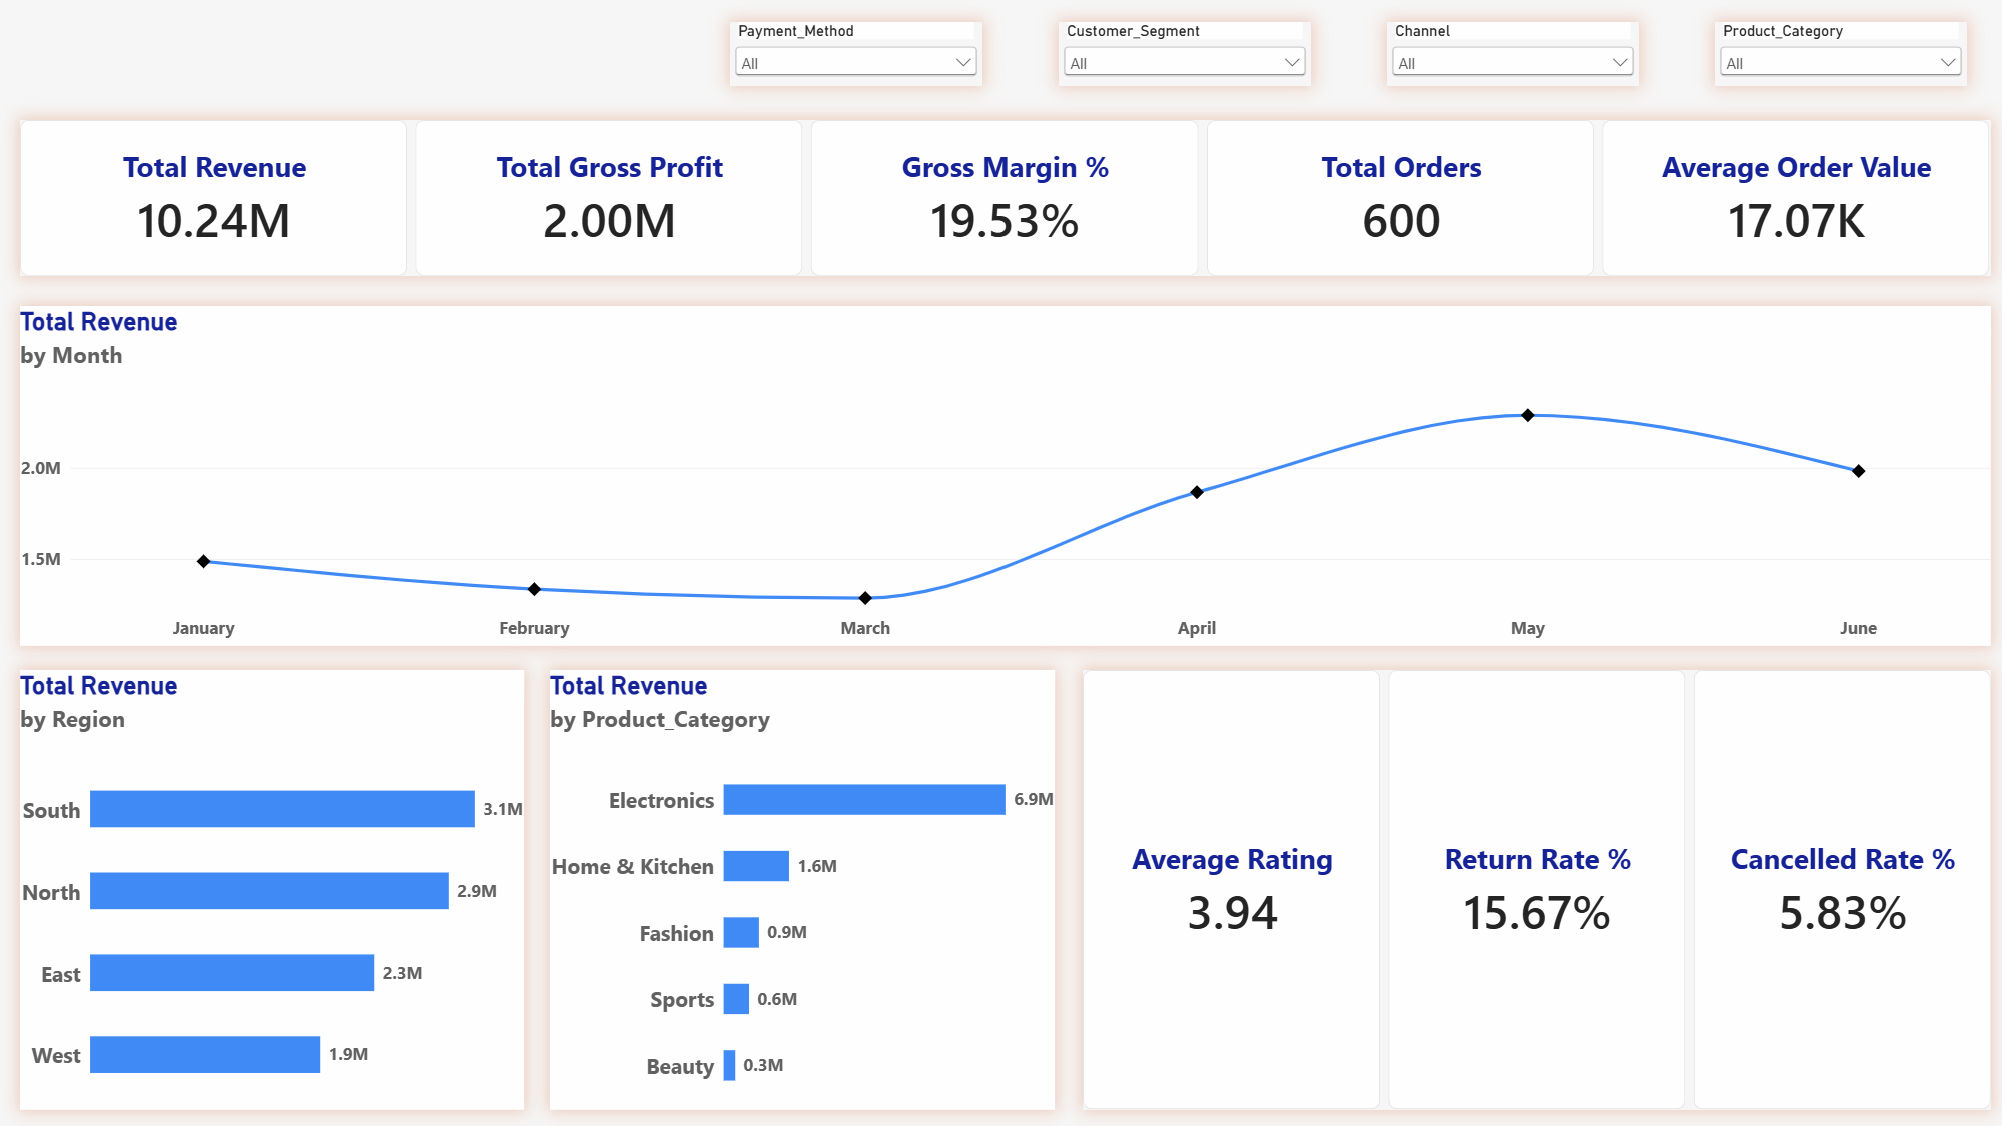

What the dashboard file says about the page in this screenshot:
{"tool":"powerbi","page":{"name":"Page 1","canvas":[1920,1080],"ordinal":0},"visuals":[{"type":"cardVisual","fields":{"Data":["Measure Table.Total Revenue","Measure Table.Total Gross Profit","Measure Table.Gross Margin %","Measure Table.Total Orders","Measure Table.Average Order Value"]},"box":[22.9,116.7,1883.7,149.2],"z":0},{"type":"lineChart","fields":{"Category":["ecommerce.Order_Date.Variation.Date Hierarchy.Month"],"Y":["Measure Table.Total Revenue"]},"box":[22.9,294.5,1883.7,325.1],"z":1},{"type":"barChart","fields":{"Category":["ecommerce.Region"],"Y":["Measure Table.Total Revenue"]},"box":[22.9,642.5,481.9,420.7],"z":2},{"type":"barChart","fields":{"Category":["ecommerce.Product_Category"],"Y":["Measure Table.Total Revenue"]},"box":[530.7,642.5,481.9,420.7],"z":3},{"type":"cardVisual","fields":{"Data":["Measure Table.Average Rating","Measure Table.Return Rate %","Measure Table.Cancelled Rate %"]},"box":[1038.4,642.5,868.2,420.7],"z":4},{"type":"slicer","fields":{"Values":["ecommerce.Payment_Method"]},"box":[700.9,22,241,61.2],"z":5},{"type":"slicer","fields":{"Values":["ecommerce.Customer_Segment"]},"box":[1015.1,22,241,61.2],"z":6},{"type":"slicer","fields":{"Values":["ecommerce.Channel"]},"box":[1329.4,22,241,61.2],"z":7},{"type":"slicer","fields":{"Values":["ecommerce.Product_Category"]},"box":[1643.7,22,241,61.2],"z":8}]}

Visuals, with their boxes in screenshot pixels (x1, y1, x2, y2), scaled from the page's 1920x1080 canvas onto the 2002x1126 screenshot:
cardVisual - Measure Table.Total Revenue x Measure Table.Total Gross Profit: detection(24, 122, 1988, 277)
lineChart - ecommerce.Order_Date.Variation.Date Hierarchy.Month x Measure Table.Total Revenue: detection(24, 307, 1988, 646)
barChart - ecommerce.Region x Measure Table.Total Revenue: detection(24, 670, 526, 1108)
barChart - ecommerce.Product_Category x Measure Table.Total Revenue: detection(553, 670, 1056, 1108)
cardVisual - Measure Table.Average Rating x Measure Table.Return Rate %: detection(1083, 670, 1988, 1108)
slicer - ecommerce.Payment_Method: detection(731, 23, 982, 87)
slicer - ecommerce.Customer_Segment: detection(1058, 23, 1310, 87)
slicer - ecommerce.Channel: detection(1386, 23, 1637, 87)
slicer - ecommerce.Product_Category: detection(1714, 23, 1965, 87)
